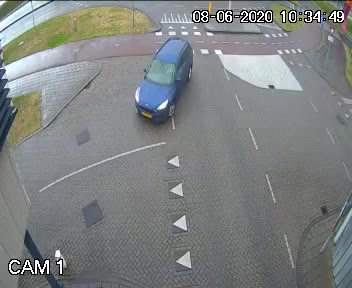car: (125, 28, 208, 134)
